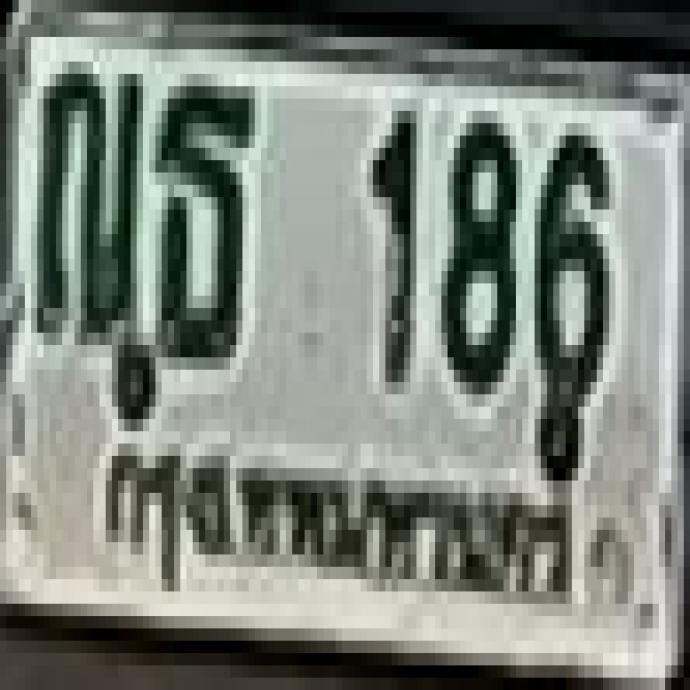1: (367, 100, 410, 374)
6: (530, 123, 603, 395)
8: (438, 109, 512, 381)
A13: (29, 56, 138, 333)
A24: (150, 73, 250, 357)
BKK: (91, 430, 581, 611)
